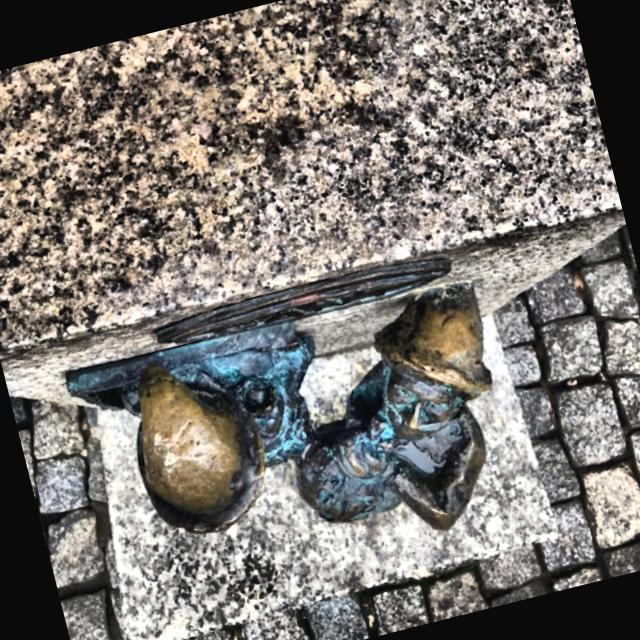Kantorki: (67, 283, 491, 532)
